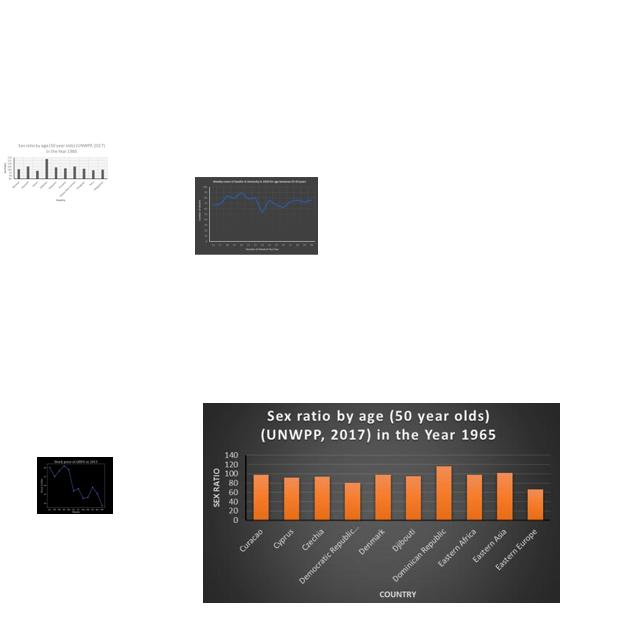Graph: (203, 403, 560, 603), (195, 177, 318, 255), (1, 142, 109, 202), (37, 457, 113, 514)
